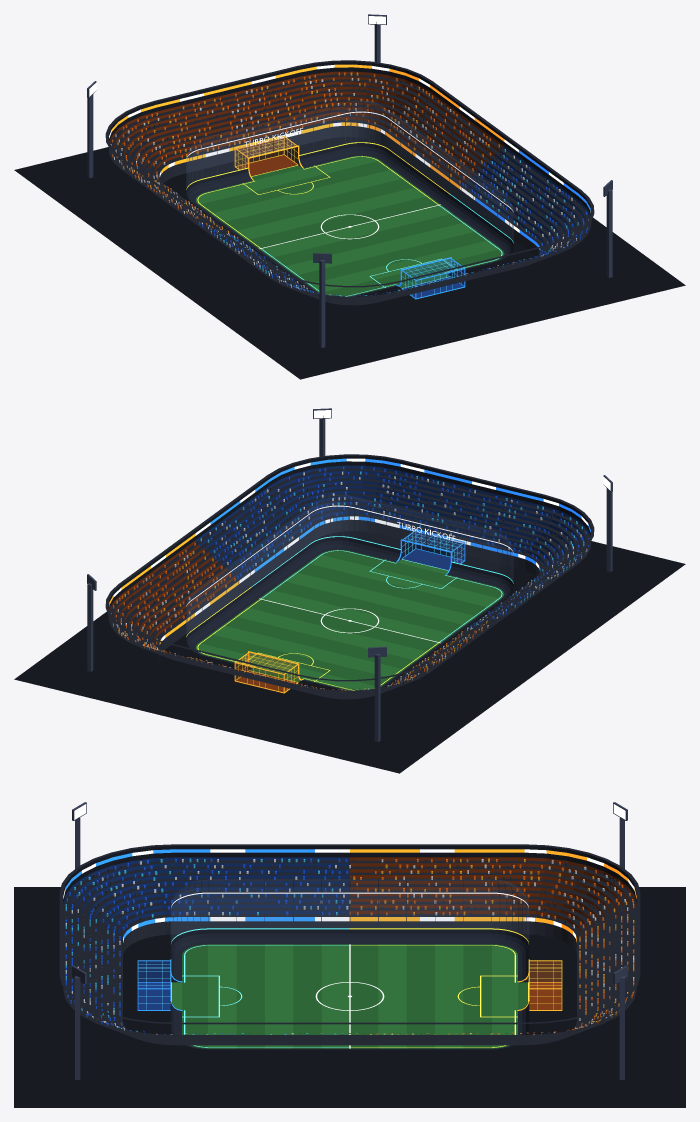
Rendered from arena.glb.
3 views of the same model, one above another, from view 1: azimuth 30°, elevation 25°; view 2: azimuth 150°, elevation 25°; view 3: azimuth 270°, elevation 25° (orthographic). The views are drawn at different scales.
Parts seen in each view (by area): view 1: Arena_Ground, Arena_Stands, Arena_Floor, Arena_Walls, Arena_Crowd, Arena_Lights, Arena_Trim, Arena_Goal_Orange, Arena_Goal_Blue, Arena_Lines; view 2: Arena_Ground, Arena_Stands, Arena_Floor, Arena_Walls, Arena_Crowd, Arena_Lights, Arena_Trim, Arena_Goal_Blue, Arena_Goal_Orange, Arena_Lines; view 3: Arena_Ground, Arena_Stands, Arena_Floor, Arena_Walls, Arena_Crowd, Arena_Lights, Arena_Trim, Arena_Lines, Arena_Goal_Blue, Arena_Goal_Orange.
Boxes of the visible parts, x1,y1,x2,y2 form: Arena_Ground: (14,137,685,379); Arena_Stands: (105,60,594,305); Arena_Floor: (195,155,504,296); Arena_Walls: (186,101,513,296); Arena_Crowd: (110,72,588,296); Arena_Lights: (87,14,612,347); Arena_Trim: (186,100,513,242); Arena_Goal_Orange: (234,136,303,180); Arena_Goal_Blue: (396,257,465,299); Arena_Lines: (197,156,502,296); Arena_Ground: (14,531,685,773); Arena_Stands: (105,454,594,699); Arena_Floor: (195,549,504,690); Arena_Walls: (186,495,513,690); Arena_Crowd: (111,466,589,691); Arena_Lights: (87,408,612,741); Arena_Trim: (186,494,513,636); Arena_Goal_Blue: (396,530,465,574); Arena_Goal_Orange: (234,651,303,693); Arena_Lines: (197,550,502,690); Arena_Ground: (14,887,685,1107); Arena_Stands: (59,844,640,1045); Arena_Floor: (172,944,527,1048); Arena_Walls: (170,880,529,1049); Arena_Crowd: (65,858,634,1035); Arena_Lights: (72,802,627,1079); Arena_Trim: (171,879,528,943); Arena_Lines: (171,944,528,1048); Arena_Goal_Blue: (137,959,182,1010); Arena_Goal_Orange: (517,959,562,1010).
Bounding box in the file's own units: 140 × 32.4 × 180.
